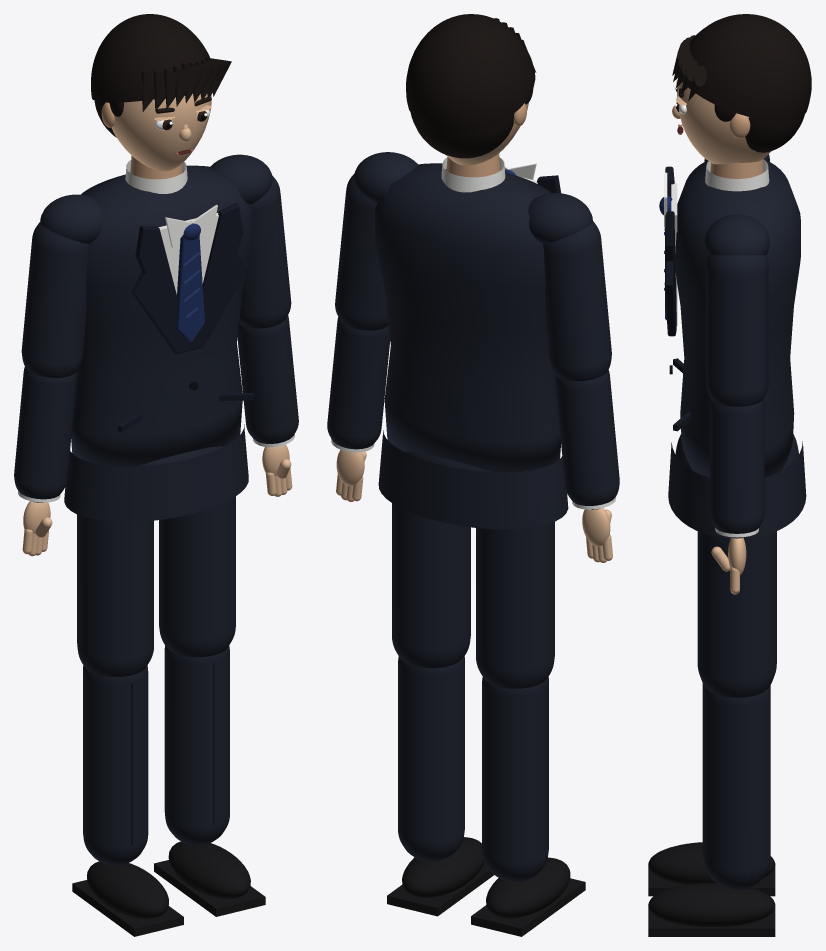
Rendered from murod-agent.glb.
3 renders of one model, left to right at view 1: azimuth 30°, elevation 25°; view 2: azimuth 150°, elevation 25°; view 3: azimuth 270°, elevation 25°, orthographic. The views are drawn at different scales.
Parts seen in each view (by area): view 1: Jacket, ShinMesh_R, ShinMesh_L, ThighMesh_R, ThighMesh_L, JacketHem, UpperArmMesh_R, HairCap, ForearmMesh_R, ForearmMesh_L, Chest, UpperArmMesh_L (+14 smaller); view 2: Jacket, ShinMesh_R, ShinMesh_L, ThighMesh_R, HairCap, ThighMesh_L, JacketHem, UpperArmMesh_R, ForearmMesh_R, ForearmMesh_L, UpperArmMesh_L, Chest (+9 smaller); view 3: Jacket, ShinMesh_L, ThighMesh_L, HairCap, UpperArmMesh_L, ForearmMesh_L, JacketHem, Shoe_L, Face, Chest, Shoe_R, Foot_L (+10 smaller).
Boxes of the visible parts, box(x1,y1,x2,y2) form: Jacket: box(71, 165, 252, 466); ShinMesh_R: box(83, 665, 148, 865); ShinMesh_L: box(164, 645, 229, 845); ThighMesh_R: box(77, 514, 153, 677); ThighMesh_L: box(159, 496, 235, 657); JacketHem: box(64, 424, 248, 521); UpperArmMesh_R: box(21, 222, 88, 377); HairCap: box(91, 14, 209, 102); ForearmMesh_R: box(14, 367, 76, 502); ForearmMesh_L: box(237, 315, 298, 443); Chest: box(40, 154, 272, 432); UpperArmMesh_L: box(239, 176, 291, 328); Jacket: box(375, 163, 560, 472); ShinMesh_R: box(482, 677, 548, 882); ShinMesh_L: box(398, 656, 464, 861); ThighMesh_R: box(476, 521, 554, 688); HairCap: box(406, 14, 535, 133); ThighMesh_L: box(392, 503, 470, 668); JacketHem: box(378, 430, 568, 529); UpperArmMesh_R: box(543, 221, 611, 381); ForearmMesh_R: box(555, 370, 619, 509); ForearmMesh_L: box(327, 317, 390, 449); UpperArmMesh_L: box(335, 173, 388, 330); Chest: box(354, 152, 592, 243); Jacket: box(675, 159, 800, 477); ShinMesh_L: box(703, 686, 770, 890); ThighMesh_L: box(697, 531, 776, 697); HairCap: box(683, 14, 811, 121); UpperArmMesh_L: box(705, 255, 768, 406); ForearmMesh_L: box(710, 399, 764, 538); JacketHem: box(668, 441, 806, 538); Shoe_L: box(648, 882, 775, 926); Face: box(677, 82, 771, 164); Chest: box(664, 154, 769, 431); Shoe_R: box(648, 842, 775, 884); Foot_L: box(648, 907, 775, 936).
Bounding box in the file's own units: 0.6458 × 1.92 × 0.3222.
